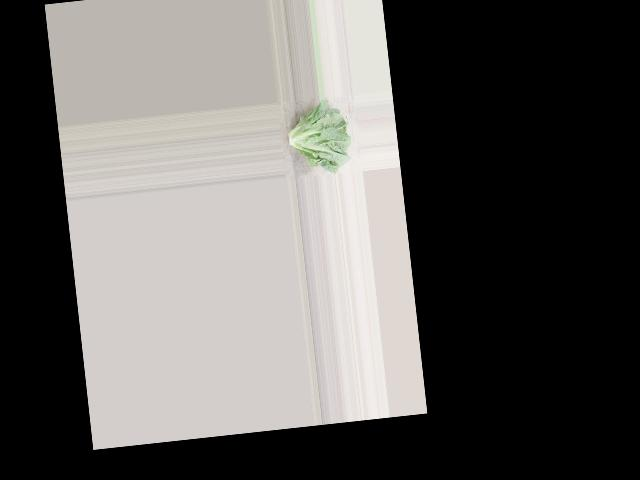lettuce: (279, 97, 356, 176)
